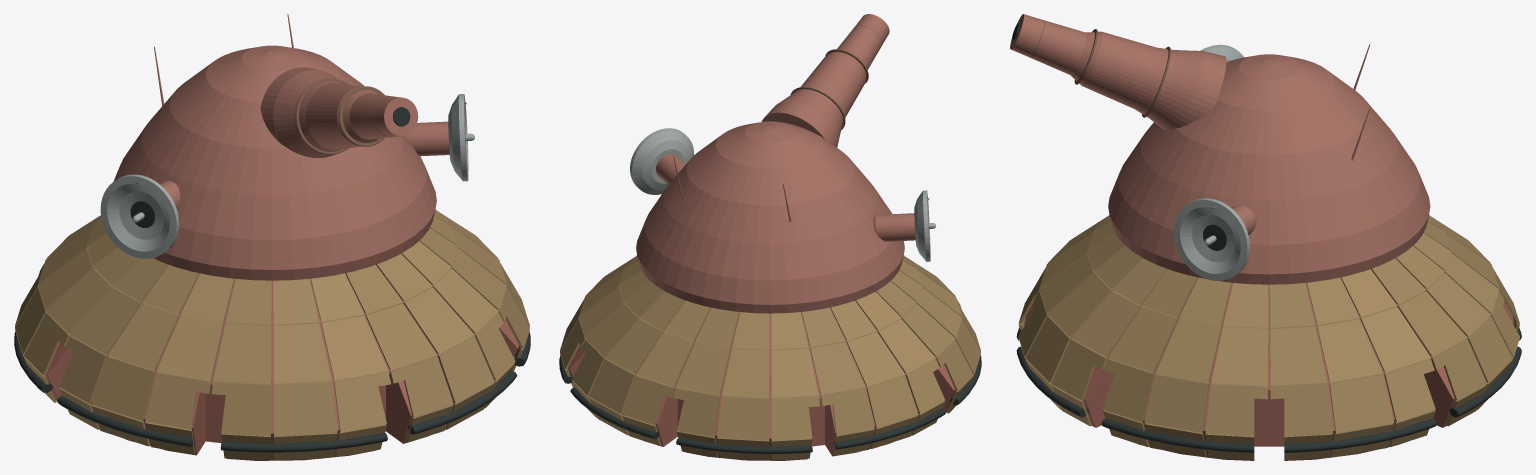
File: anti-missile-pod.glb
The picture shows the model from 3 angles, left to right: view 1: azimuth 30°, elevation 25°; view 2: azimuth 150°, elevation 25°; view 3: azimuth 270°, elevation 25°; orthographic projection. The views are drawn at different scales.
Visible parts, largest first — view 1: Armoured pedestal sectors, Research copper rounded head, Slender stepped plasma barrel, Turret armoured pedestal, Pedestal foundation joint, Twin tracking dish -1, Twin tracking dish 1, Tracking dish mounting neck 1, Wear plasma barrel contact seam.001; view 2: Armoured pedestal sectors, Research copper rounded head, Slender stepped plasma barrel, Turret armoured pedestal, Pedestal foundation joint, Twin tracking dish 1, Tracking dish mounting neck -1, Twin tracking dish -1, Tracking dish mounting neck 1; view 3: Armoured pedestal sectors, Research copper rounded head, Slender stepped plasma barrel, Turret armoured pedestal, Pedestal foundation joint, Twin tracking dish 1.
Part boxes in pixels (<box>): Armoured pedestal sectors: <box>15,209,529,460</box>; Research copper rounded head: <box>113,45,436,280</box>; Slender stepped plasma barrel: <box>260,67,418,158</box>; Turret armoured pedestal: <box>45,271,519,460</box>; Pedestal foundation joint: <box>14,331,530,452</box>; Twin tracking dish -1: <box>100,174,179,258</box>; Twin tracking dish 1: <box>448,94,468,181</box>; Tracking dish mounting neck 1: <box>405,121,449,156</box>; Wear plasma barrel contact seam.001: <box>339,86,384,146</box>; Armoured pedestal sectors: <box>560,255,980,460</box>; Research copper rounded head: <box>636,121,904,313</box>; Slender stepped plasma barrel: <box>761,14,889,147</box>; Turret armoured pedestal: <box>569,308,956,460</box>; Pedestal foundation joint: <box>559,355,981,453</box>; Twin tracking dish 1: <box>630,128,694,194</box>; Tracking dish mounting neck -1: <box>873,213,915,241</box>; Twin tracking dish -1: <box>914,190,930,261</box>; Tracking dish mounting neck 1: <box>656,154,685,184</box>; Armoured pedestal sectors: <box>1018,215,1519,460</box>; Research copper rounded head: <box>1108,54,1430,284</box>; Slender stepped plasma barrel: <box>1010,14,1226,129</box>; Turret armoured pedestal: <box>1024,274,1514,460</box>; Pedestal foundation joint: <box>1016,327,1521,452</box>; Twin tracking dish 1: <box>1173,198,1249,280</box>.
Size of the model in its own units: 2.01 by 1.52 by 2.03.
